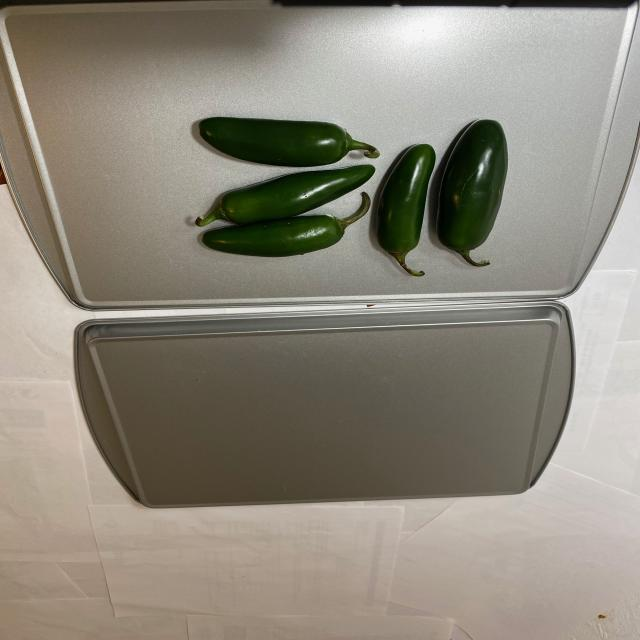chilli: (172, 115, 521, 275)
